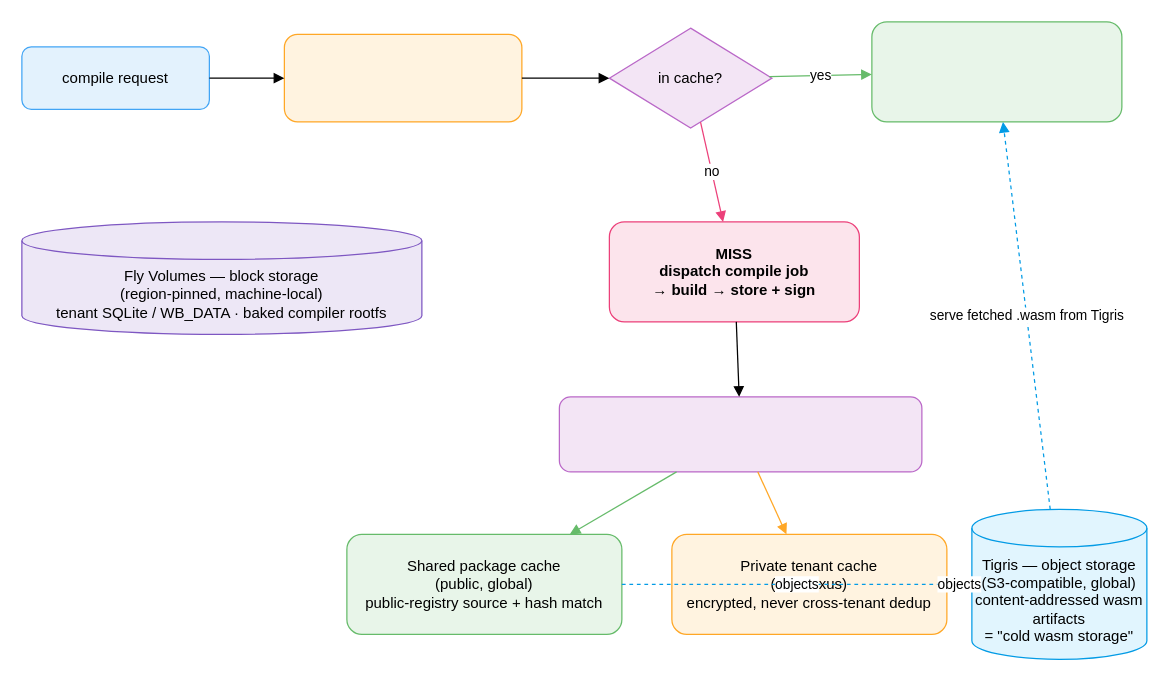
This 1169x681 diagram has some shape labels left out. Here are the shapes that lost their labels. From the top down, the box of each, then its label:
(283, 33, 522, 122): hash key blake3(source ⊕ lane ⊕ toolchain ⊕ flags)
(871, 21, 1122, 122): HIT fetch .wasm (egress only, no worker spun)
(558, 396, 922, 472): provenance gate (write time) decides namespace by SOURCE ORIGIN
